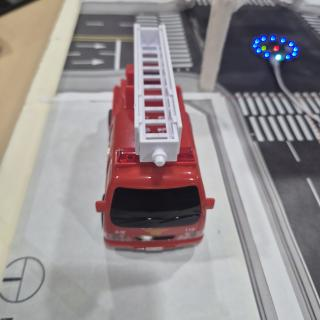Fire_truck: (96, 24, 215, 251)
